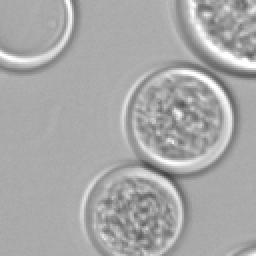picoshell: (122, 64, 234, 172), (80, 164, 182, 254), (176, 0, 254, 76), (226, 240, 254, 254)
